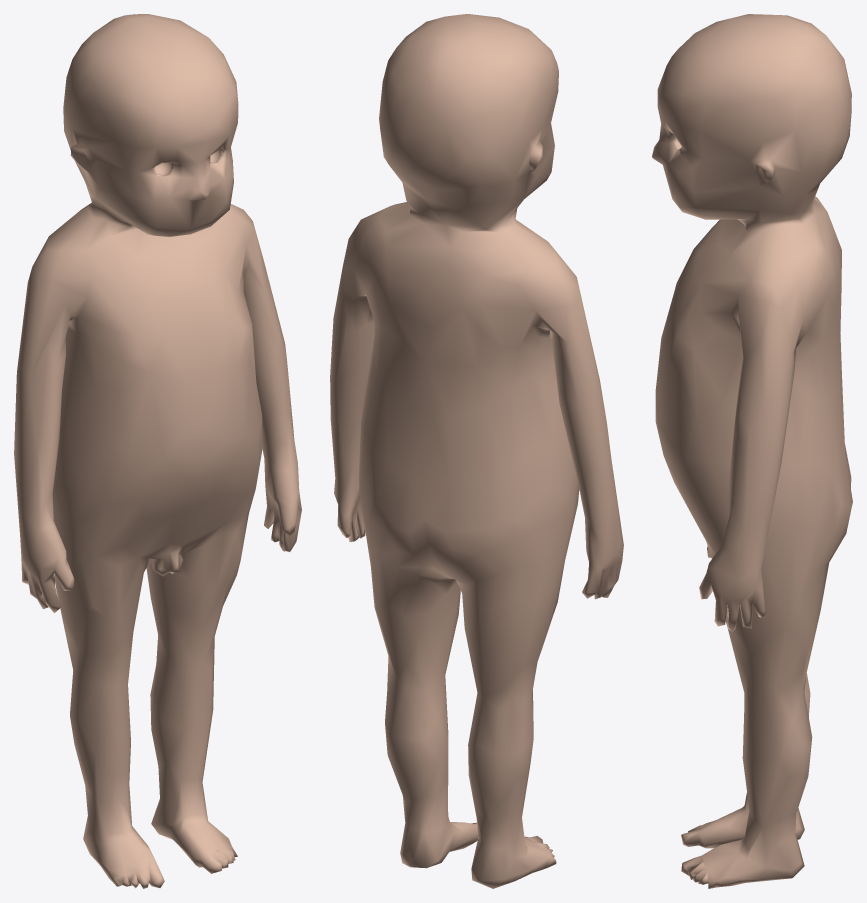
File: pediatric_infant_male.surface.LOD3.glb
The picture shows the model from 3 angles, left to right: view 1: azimuth 30°, elevation 25°; view 2: azimuth 150°, elevation 25°; view 3: azimuth 270°, elevation 25°; orthographic projection. The views are drawn at different scales.
Visible parts, largest first — view 1: PEDIATRIC.INFANT.MALE.SURFACE.SKIN; view 2: PEDIATRIC.INFANT.MALE.SURFACE.SKIN; view 3: PEDIATRIC.INFANT.MALE.SURFACE.SKIN.
Part boxes in pixels (left/top/right/bottom): PEDIATRIC.INFANT.MALE.SURFACE.SKIN: left=14, top=14, right=301, bottom=888; PEDIATRIC.INFANT.MALE.SURFACE.SKIN: left=330, top=14, right=623, bottom=888; PEDIATRIC.INFANT.MALE.SURFACE.SKIN: left=652, top=14, right=852, bottom=888.
Size of the model in its own units: 0.2615 by 0.7603 by 0.1657.
